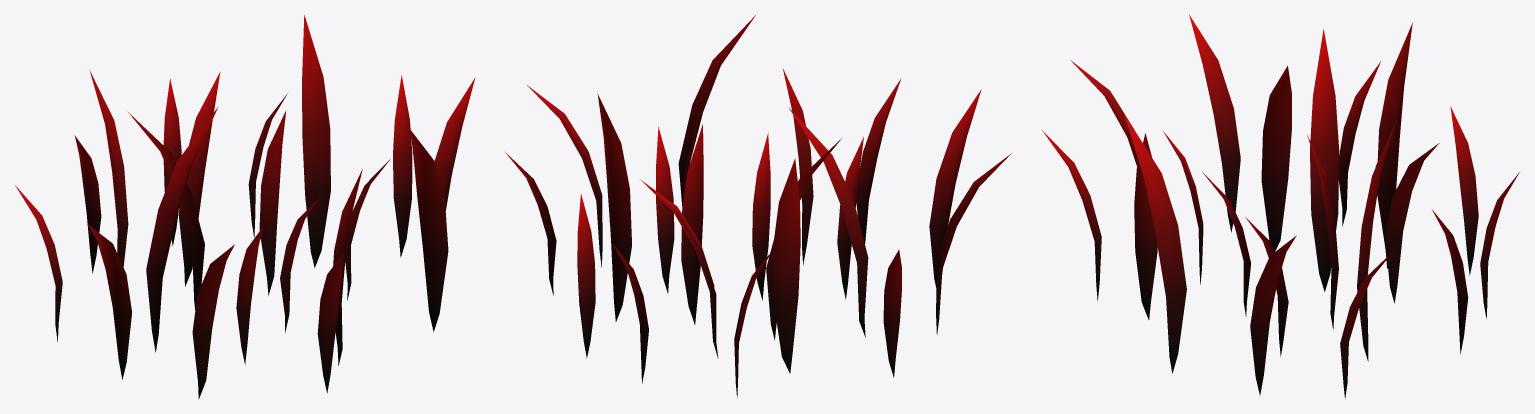
The model's file is Grass.fbx.
3 renders of one model, left to right at view 1: azimuth 30°, elevation 25°; view 2: azimuth 150°, elevation 25°; view 3: azimuth 270°, elevation 25°, orthographic. The views are drawn at different scales.
Parts seen in each view (by area): view 1: Grass.LOD0; view 2: Grass.LOD0; view 3: Grass.LOD0.
Boxes of the visible parts, box(x1,y1,x2,y2) form: Grass.LOD0: box(15, 15, 475, 399); Grass.LOD0: box(505, 15, 1011, 397); Grass.LOD0: box(1041, 14, 1519, 398).
Size of what is drawn, in the model's own units: 0.7056 by 0.3705 by 0.647.
